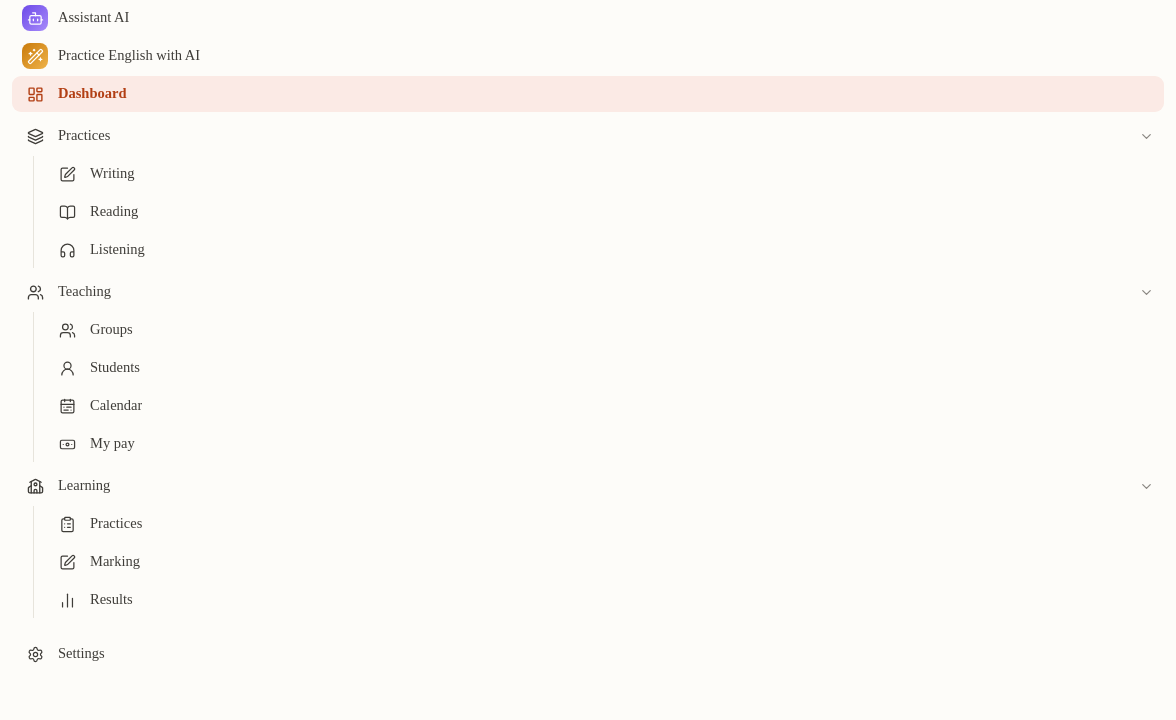
the row says what it is doing › carries the disclosure state itself — there is no second control
What coordinates should you click on to do the following:
click the button with class "lp-sb-grouprow" showing "Practices"
I would click on:
 (84, 135)
Its box is top-left (12, 118), bottom-right (1164, 154).
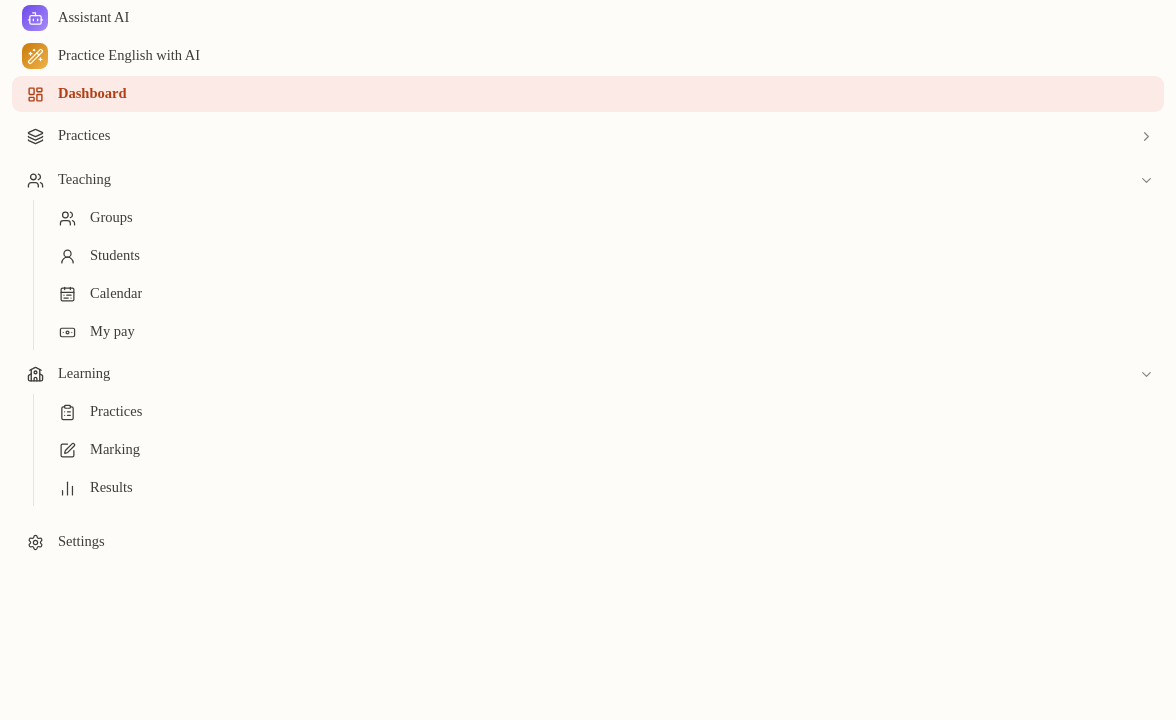
Now the button with class "lp-sb-grouprow" is collapsed, box top-left (12, 118), bottom-right (1164, 154)
